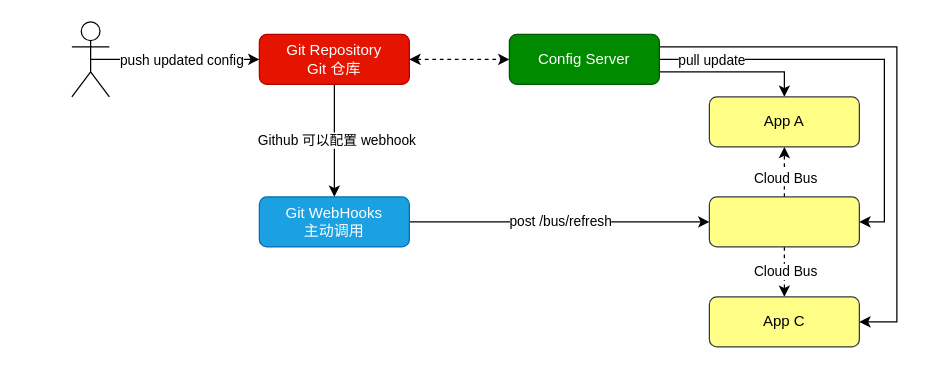
Image size: 929x369. Some labels were removed from this diagram. Here are the shapes that lost their labels. From the top down, the centre of each, then its label:
(90,59): 用户更新配置（Git）
(783,221): App B
